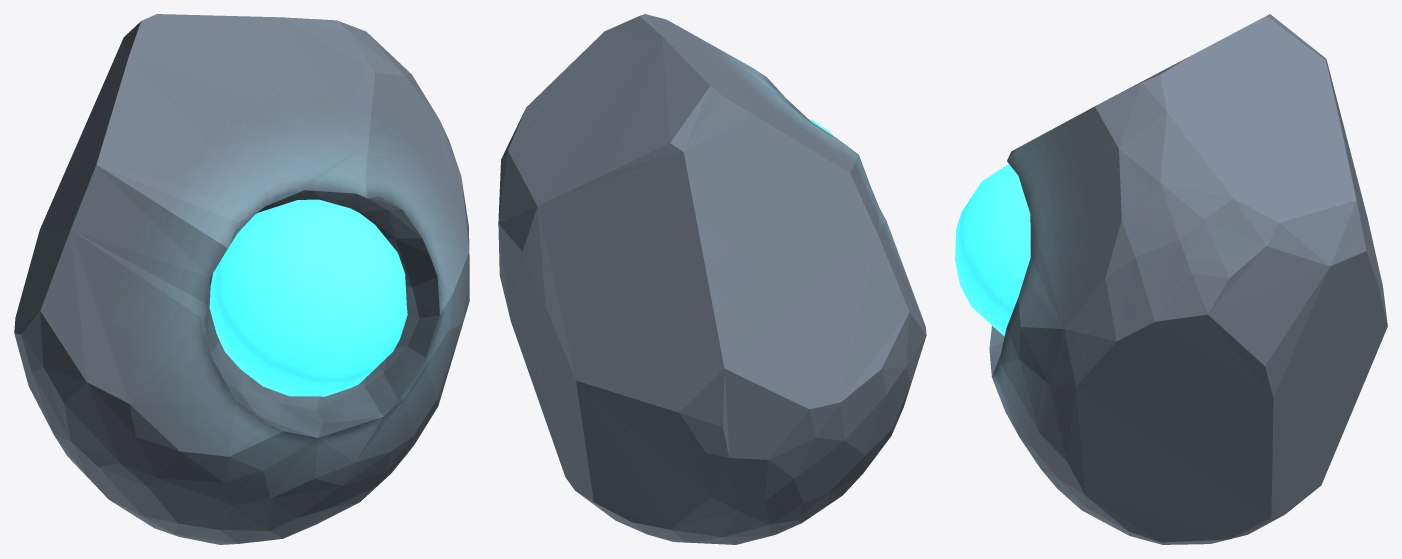
Rendered from rune-stone.glb.
3 views of the same model, side by side, from view 1: azimuth 30°, elevation 25°; view 2: azimuth 150°, elevation 25°; view 3: azimuth 270°, elevation 25° (orthographic). The views are drawn at different scales.
Parts seen in each view (by area): view 1: stone, gem; view 2: stone; view 3: stone, gem.
Part boxes in pixels (left/top/right/bottom): stone: left=14, top=14, right=469, bottom=544; gem: left=209, top=199, right=407, bottom=396; stone: left=498, top=14, right=926, bottom=544; stone: left=989, top=14, right=1387, bottom=544; gem: left=955, top=164, right=1030, bottom=336.
Size of the model in its own units: 0.4442 by 0.5214 by 0.4161.
2 materials, 2 textured.
